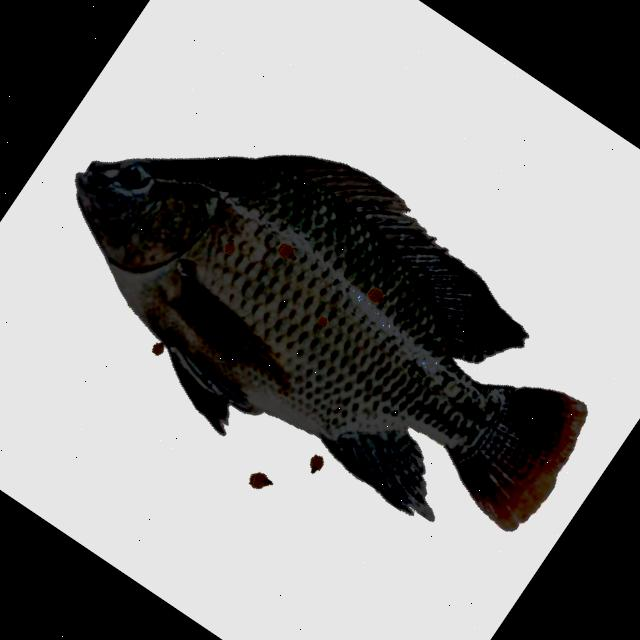Parasitic Disease: (76, 156, 585, 529)
